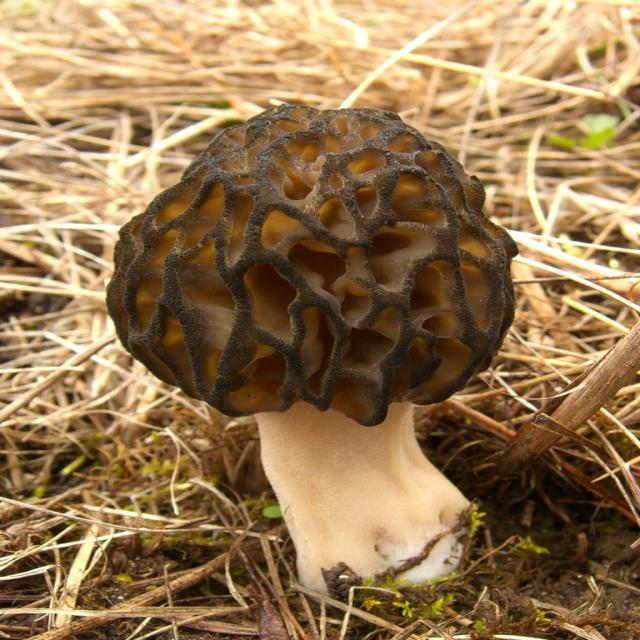Mushroom: (107, 104, 519, 599)
